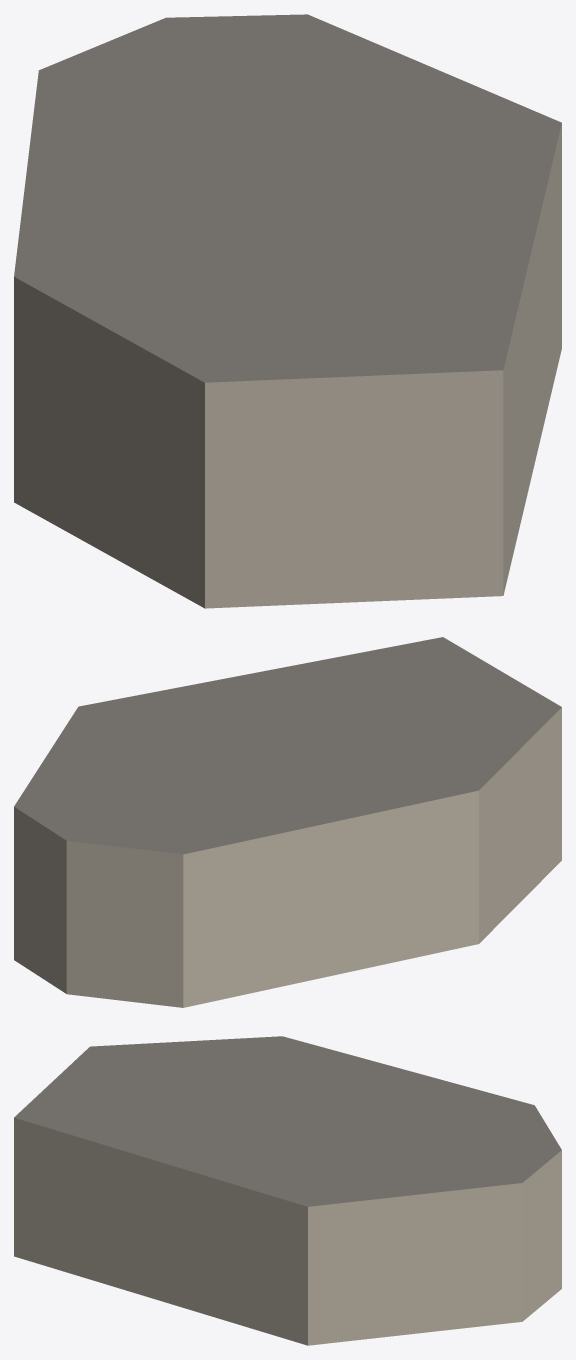
3 views of the same model, one above another, from view 1: azimuth 30°, elevation 25°; view 2: azimuth 150°, elevation 25°; view 3: azimuth 270°, elevation 25° (orthographic). The views are drawn at different scales.
Visible parts, largest first — view 1: HP-w350277188; view 2: HP-w350277188; view 3: HP-w350277188.
Boxes of the visible parts, bbox=[...] form: HP-w350277188: bbox=[14, 14, 561, 608]; HP-w350277188: bbox=[14, 637, 561, 1007]; HP-w350277188: bbox=[14, 1036, 561, 1345].
Size of the model in its own units: 47.44 by 18 by 64.38.
